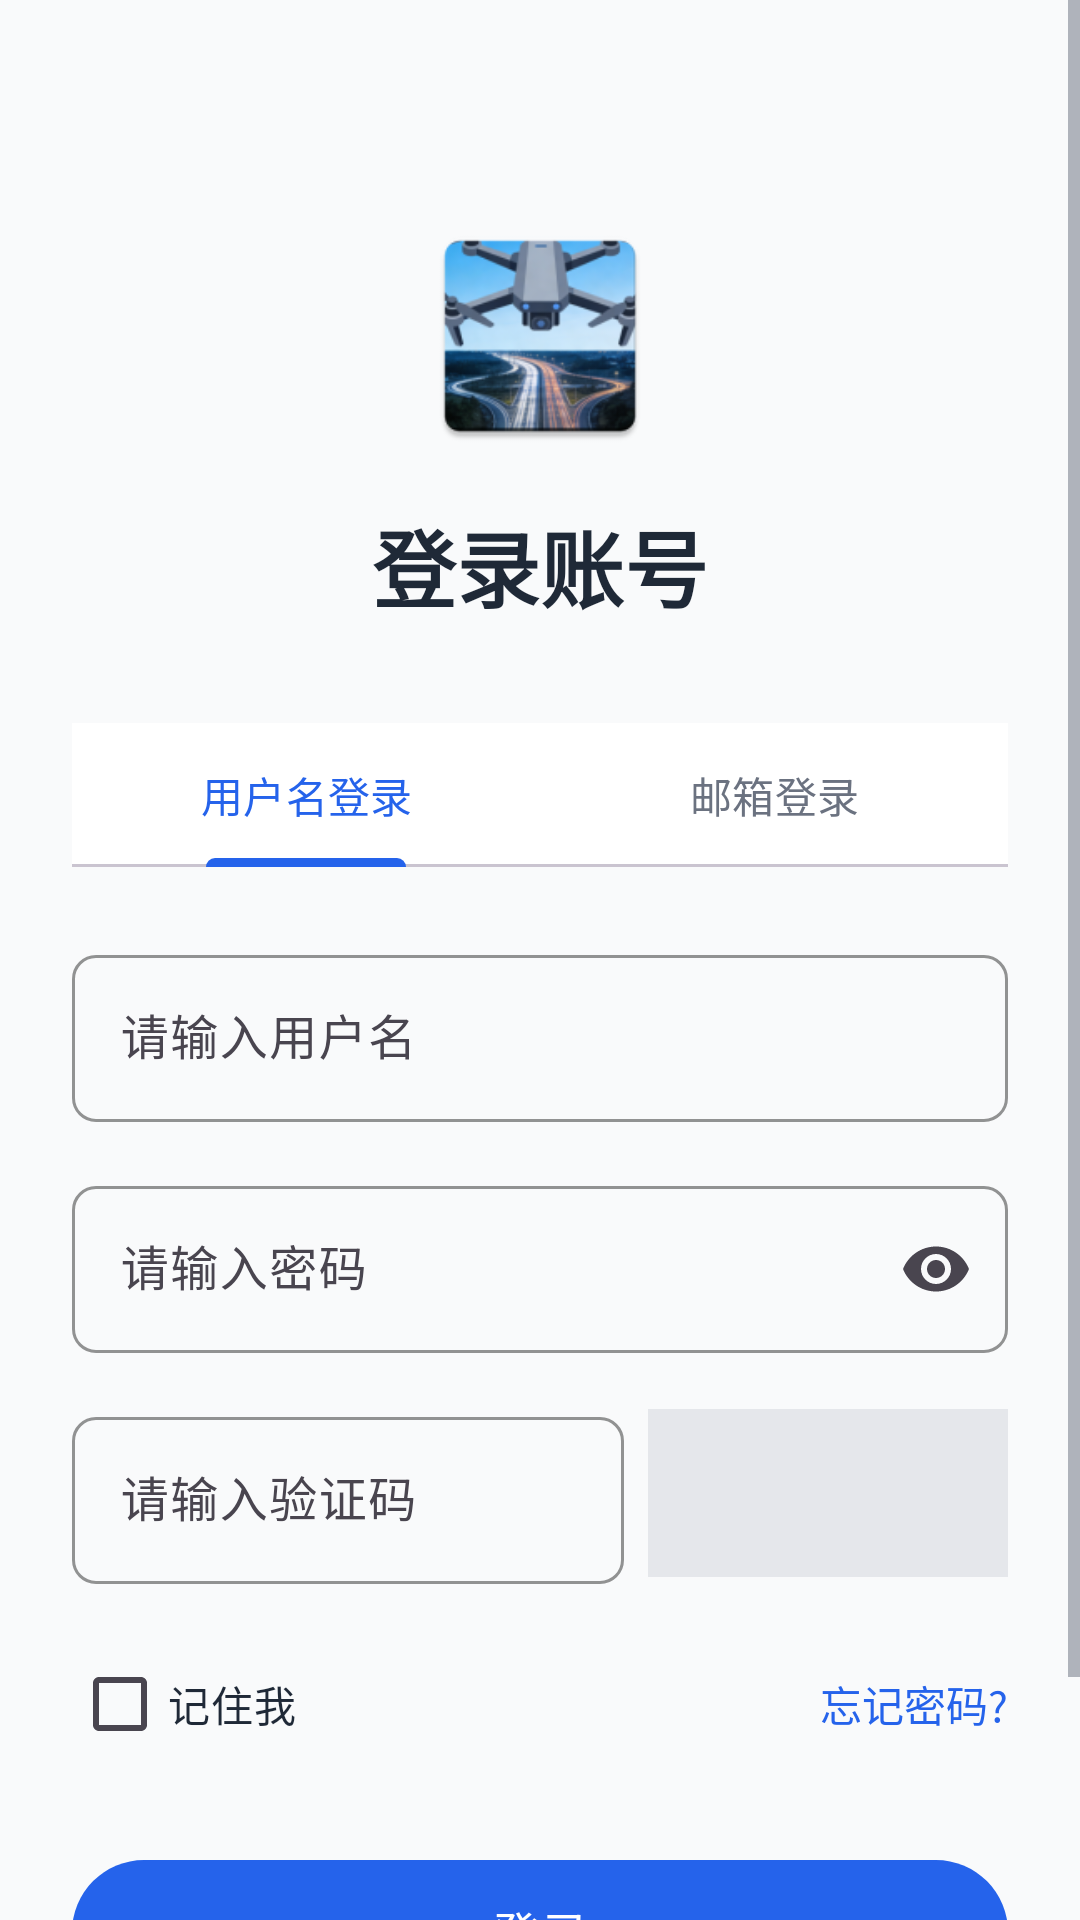

Screen size 1080 × 1920. Icon name, then its center in pixels as point (x, y):
sky flow tracker: point (540, 338)
